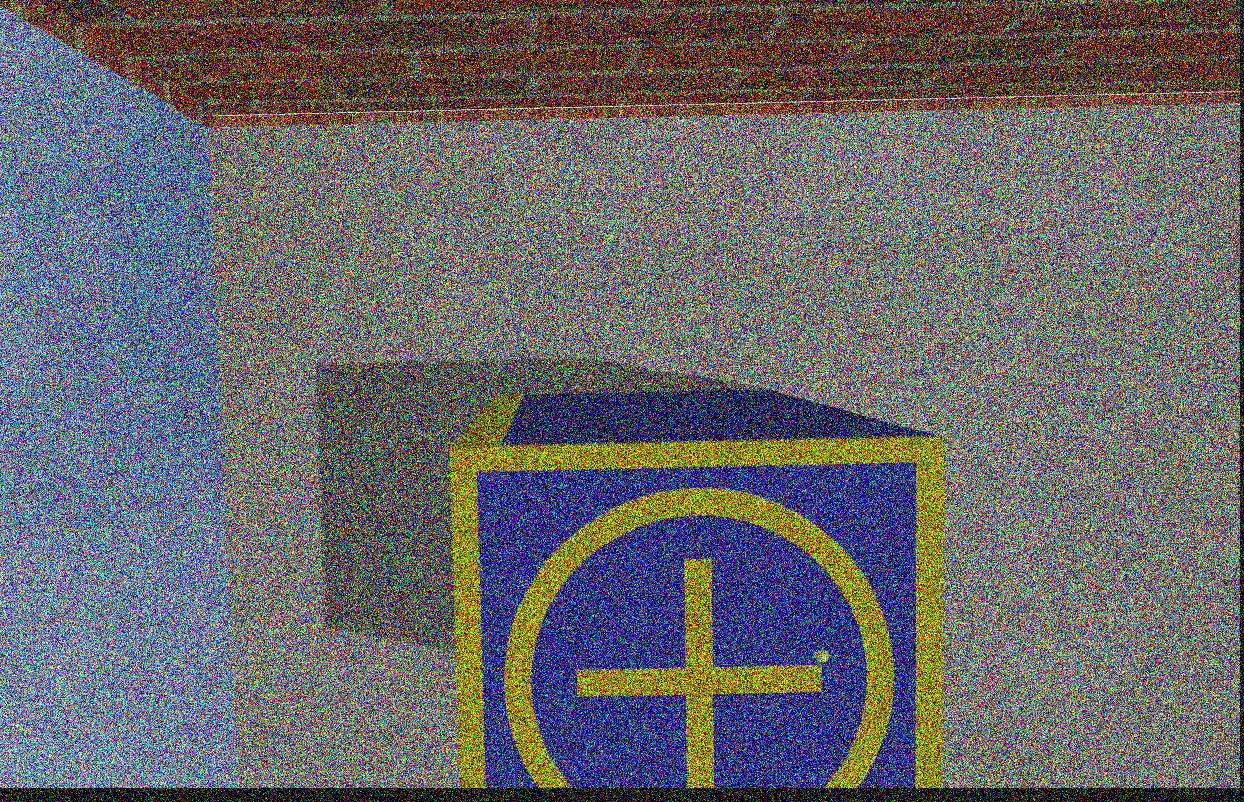small_base: (448, 435, 952, 797)
